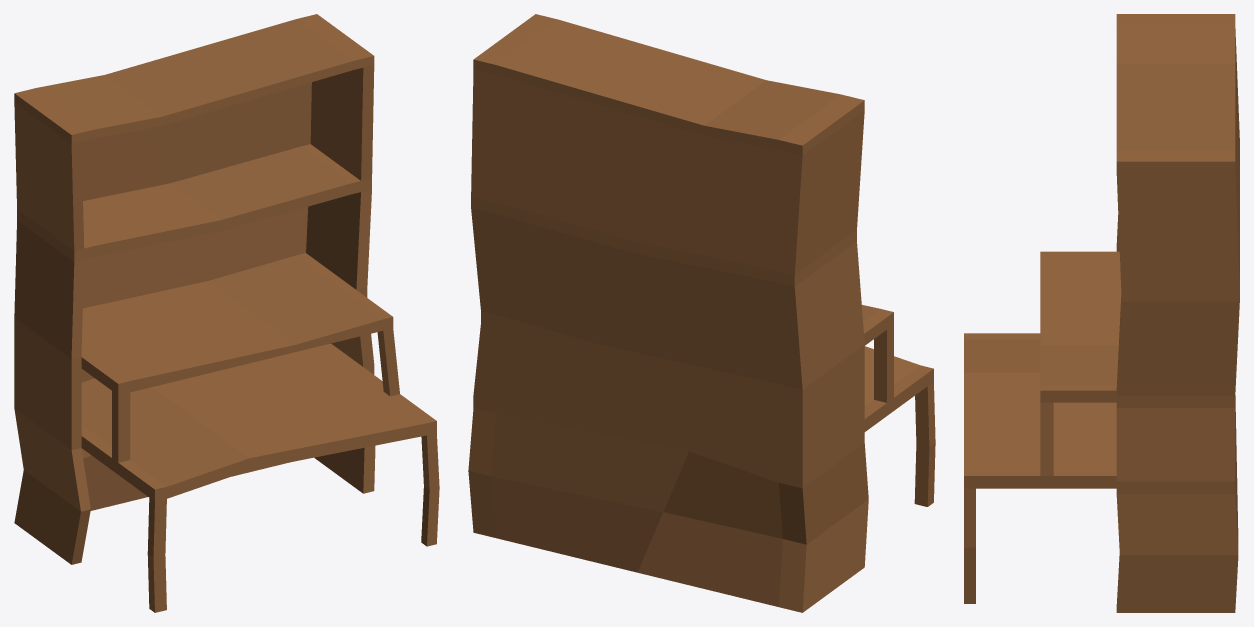
Rendered from Closet1.fbx.
3 renders of one model, left to right at view 1: azimuth 30°, elevation 25°; view 2: azimuth 150°, elevation 25°; view 3: azimuth 270°, elevation 25°, orthographic. The views are drawn at different scales.
Parts seen in each view (by area): view 1: Cube.269; view 2: Cube.269; view 3: Cube.269.
Part boxes in pixels (left/top/right/bottom): Cube.269: left=14, top=14, right=439, bottom=612; Cube.269: left=468, top=14, right=935, bottom=612; Cube.269: left=964, top=14, right=1239, bottom=612.
Bounding box in the file's own units: 617 × 840 × 465.
